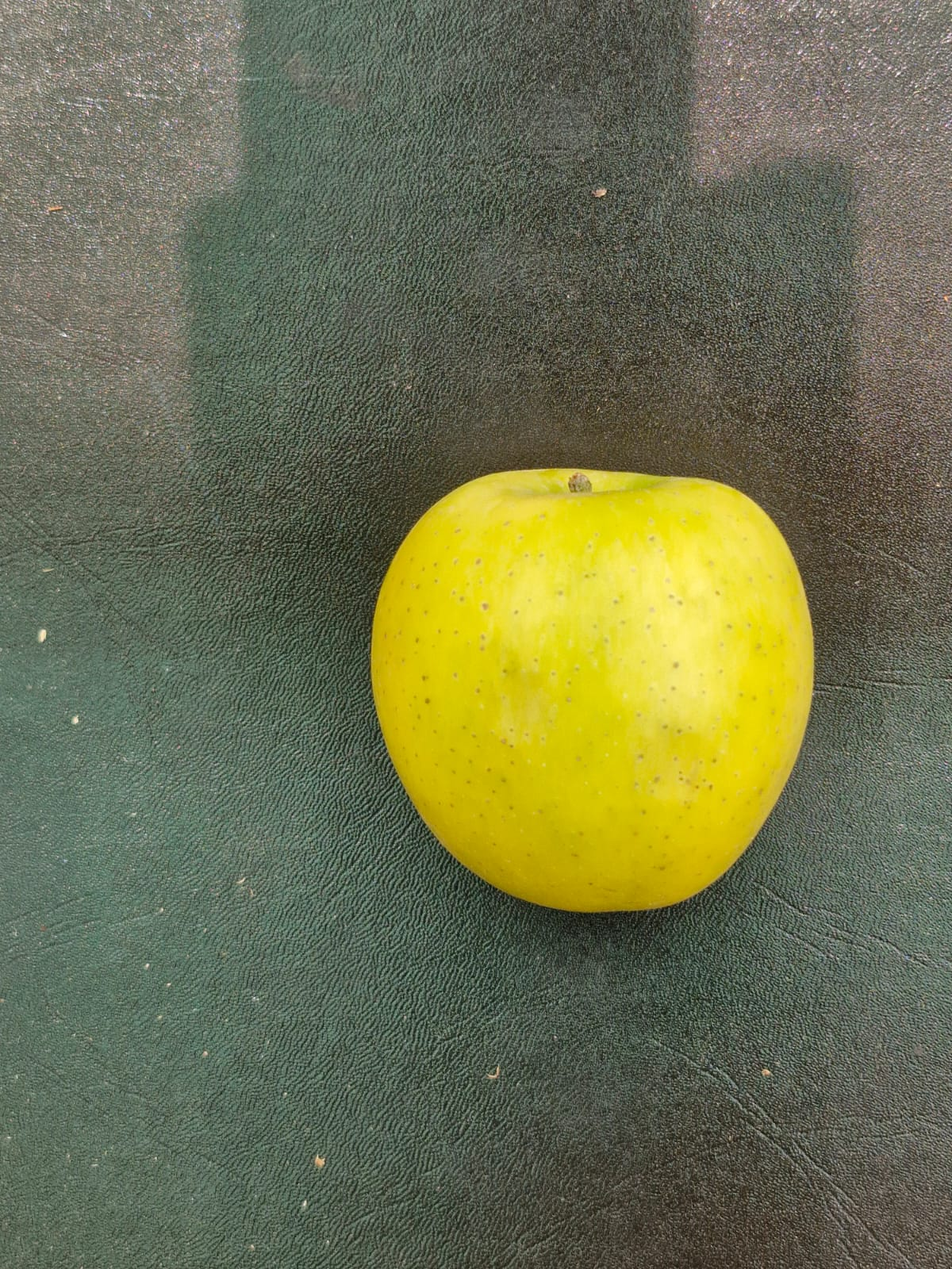apple: (117, 257, 774, 1043)
